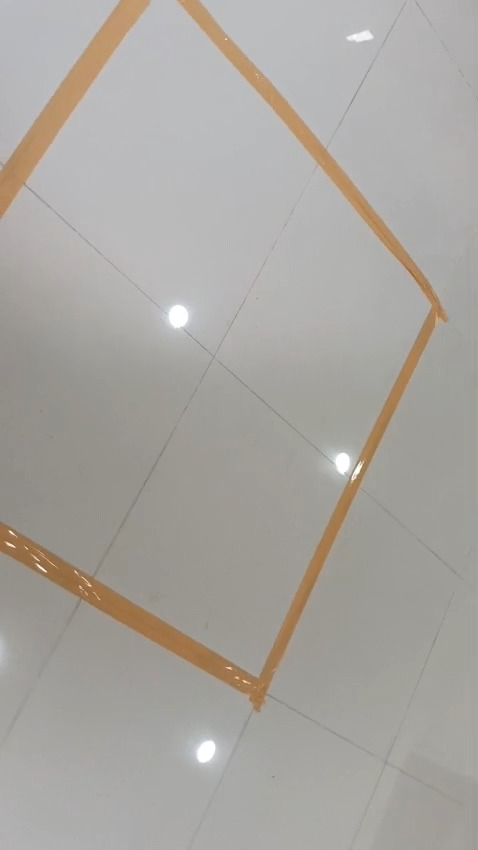floor marking: (0, 0, 446, 709), (0, 0, 149, 216)
